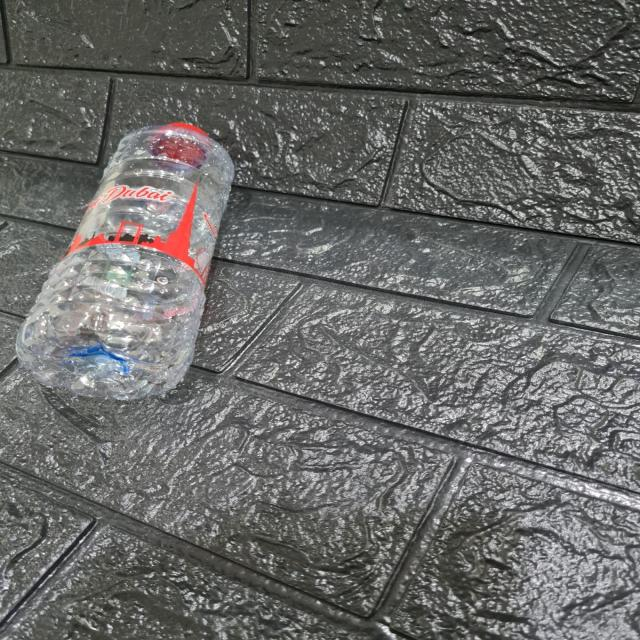bottle: (6, 115, 248, 395)
